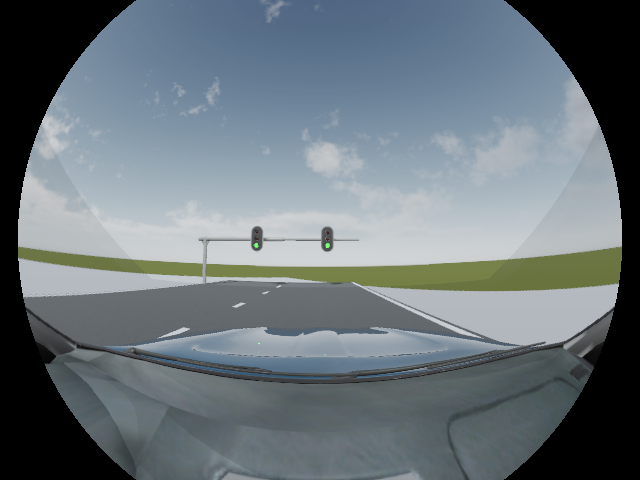Green Light: (252, 225, 264, 250), (322, 227, 333, 251)
